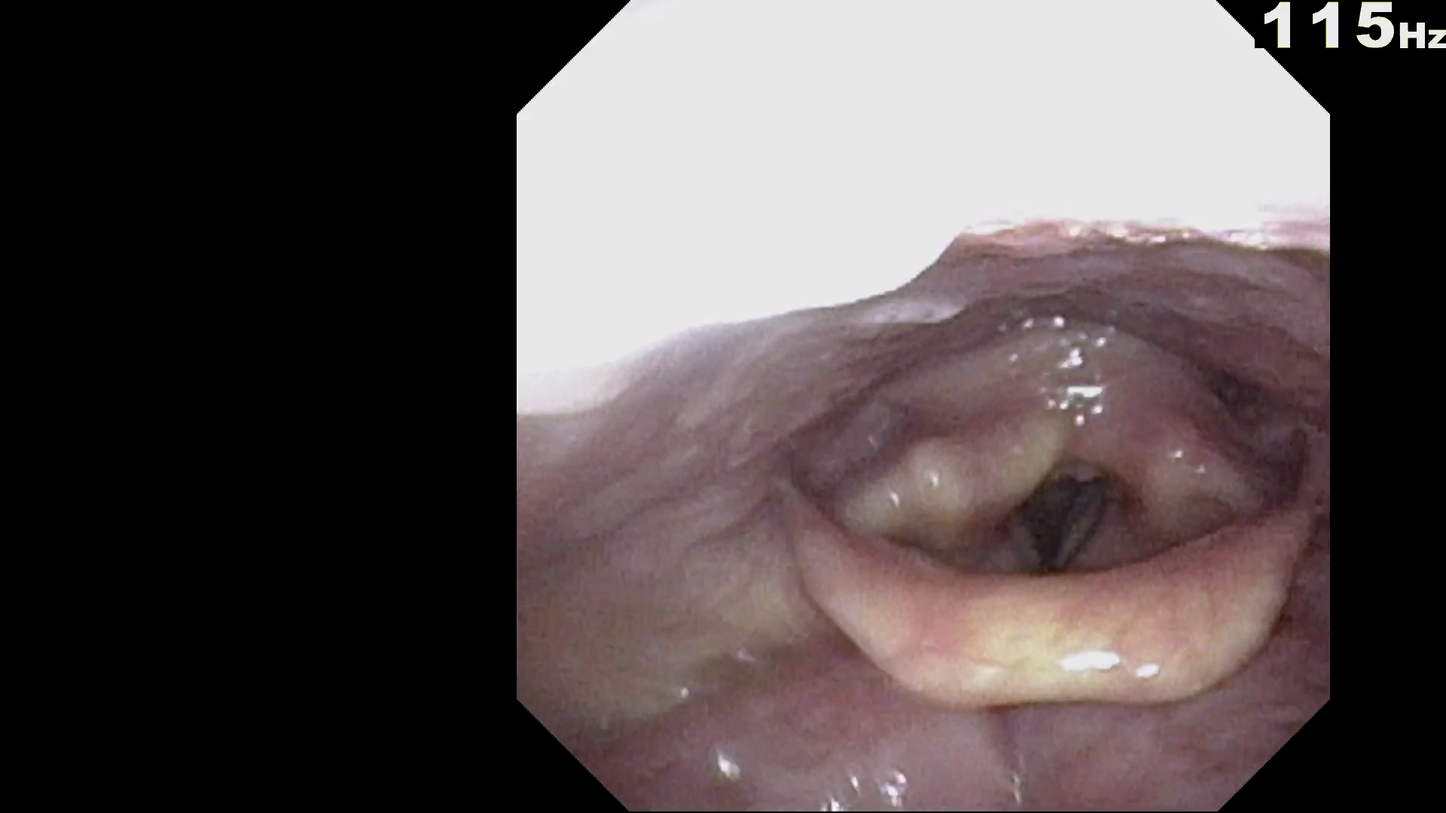epiglottis: (779, 456, 1303, 695)
